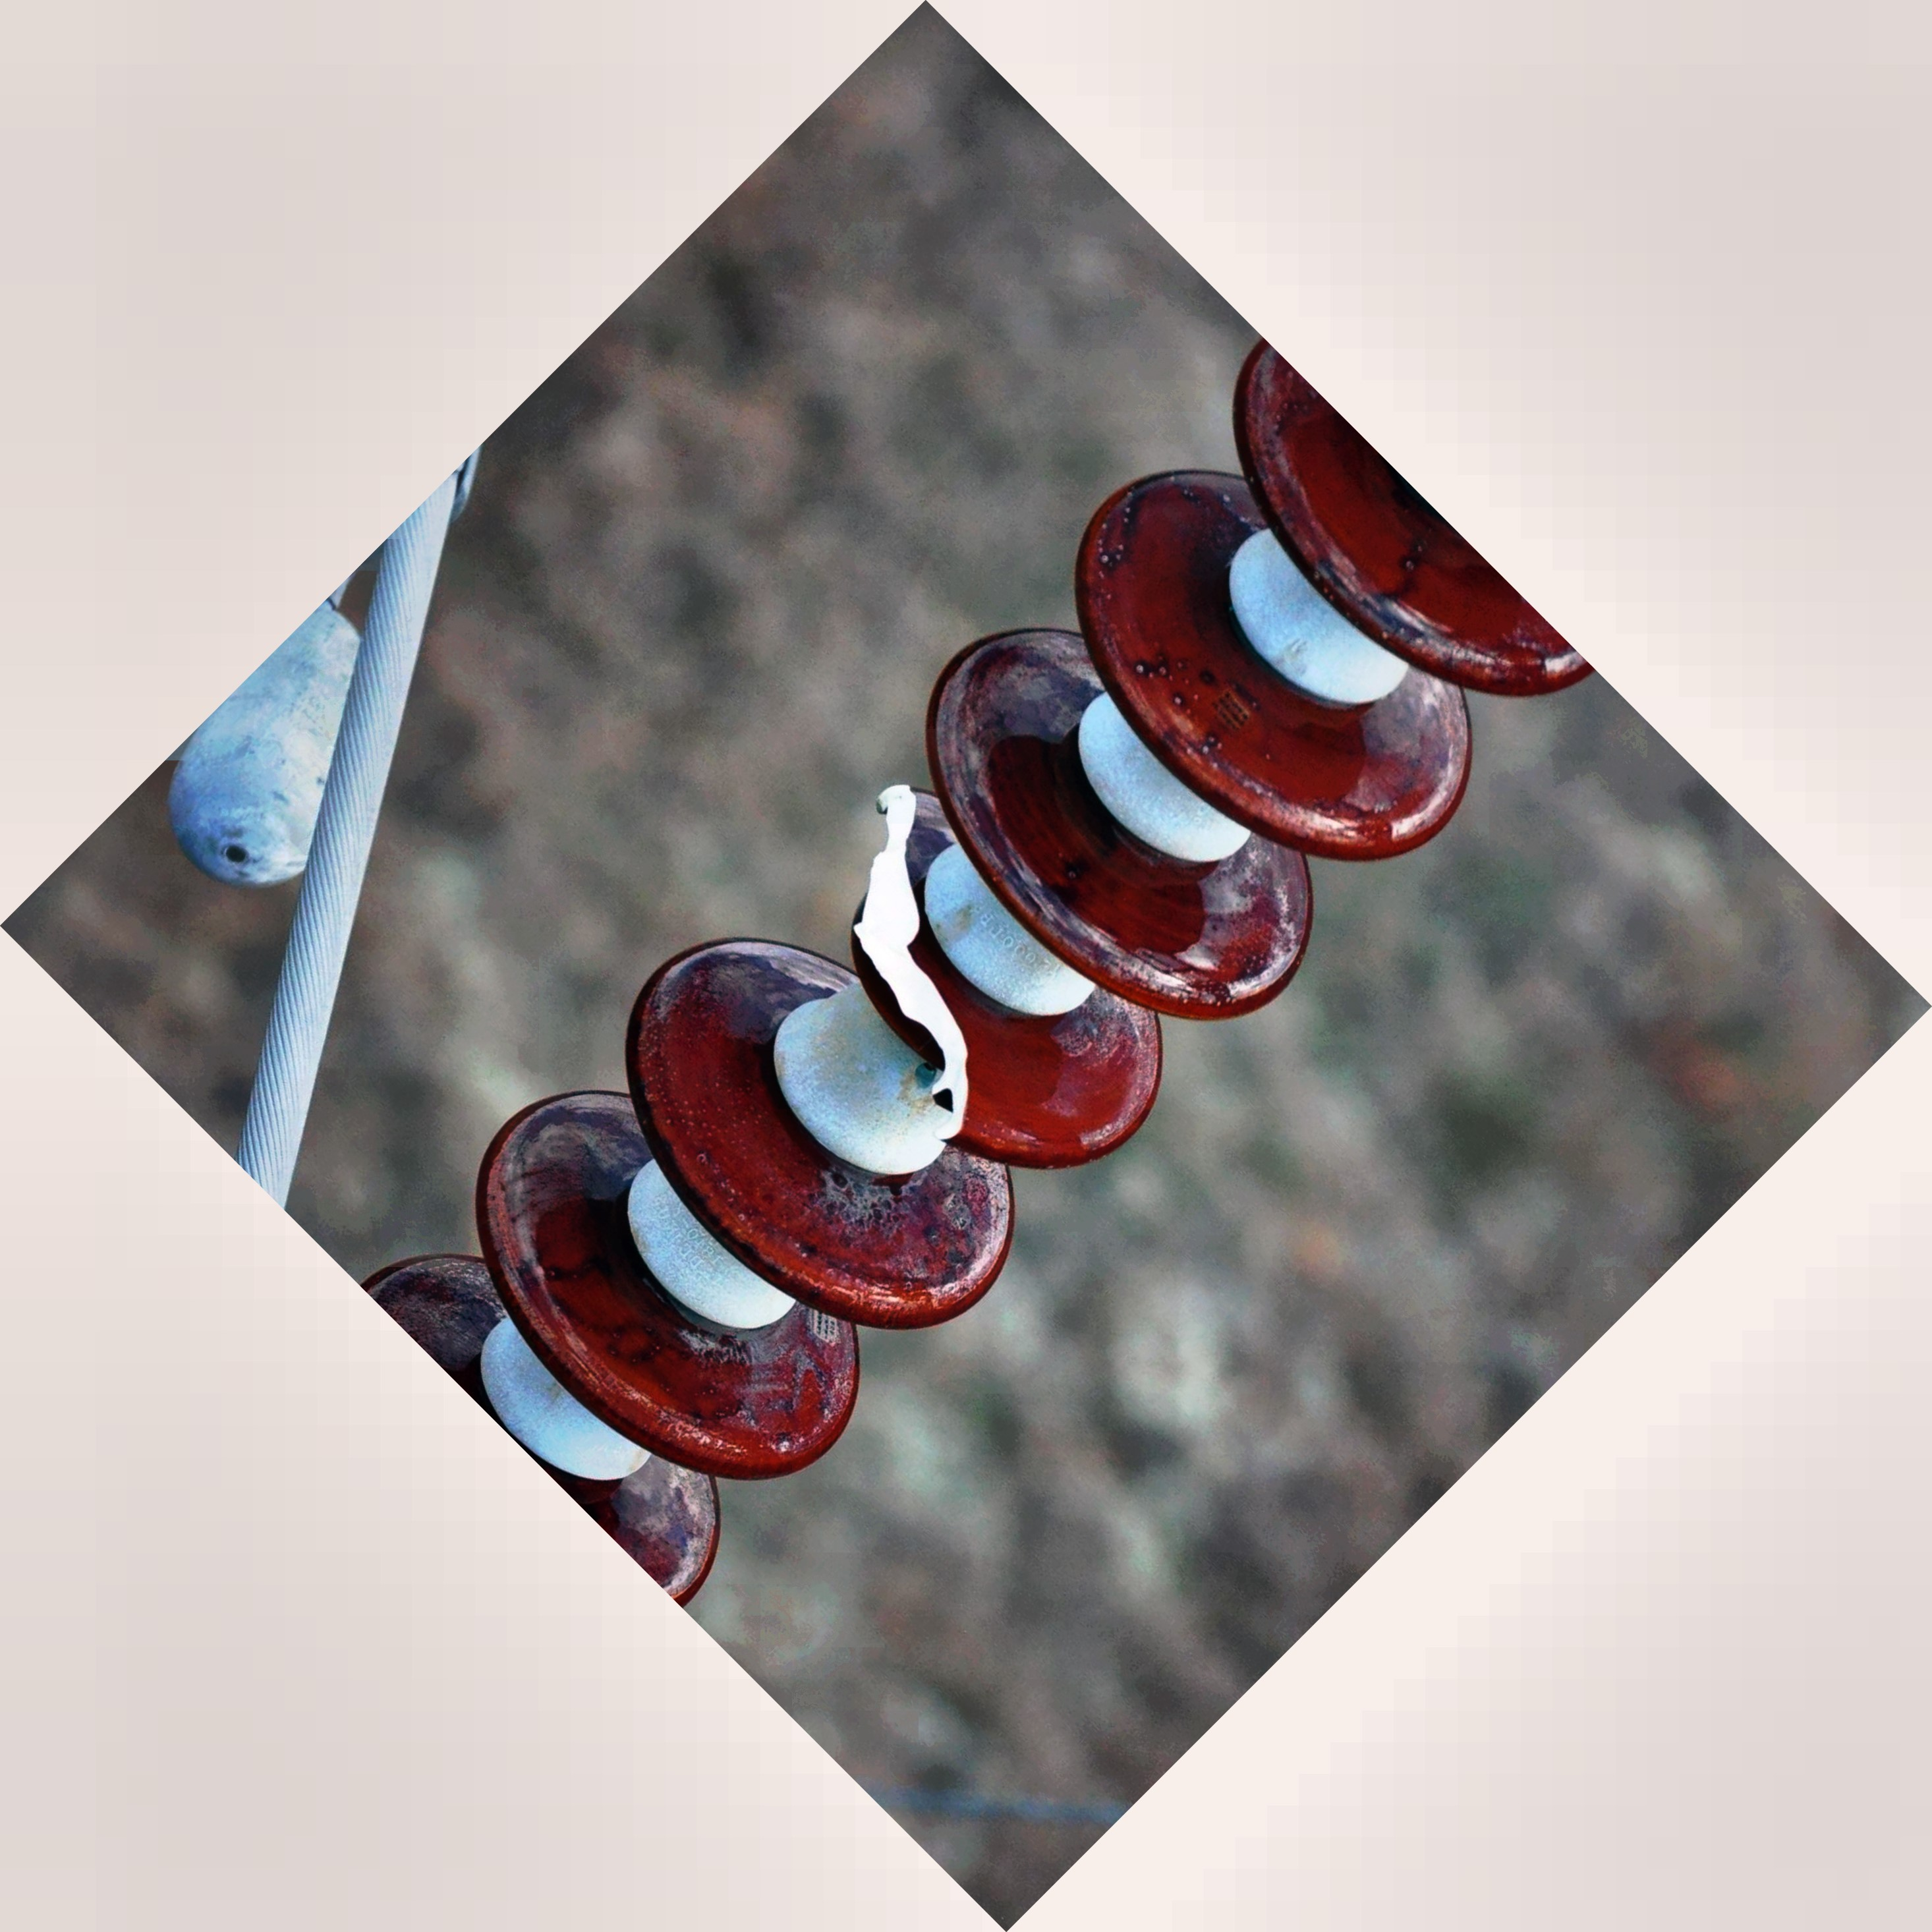insulator breakage: (814, 757, 1173, 1169)
